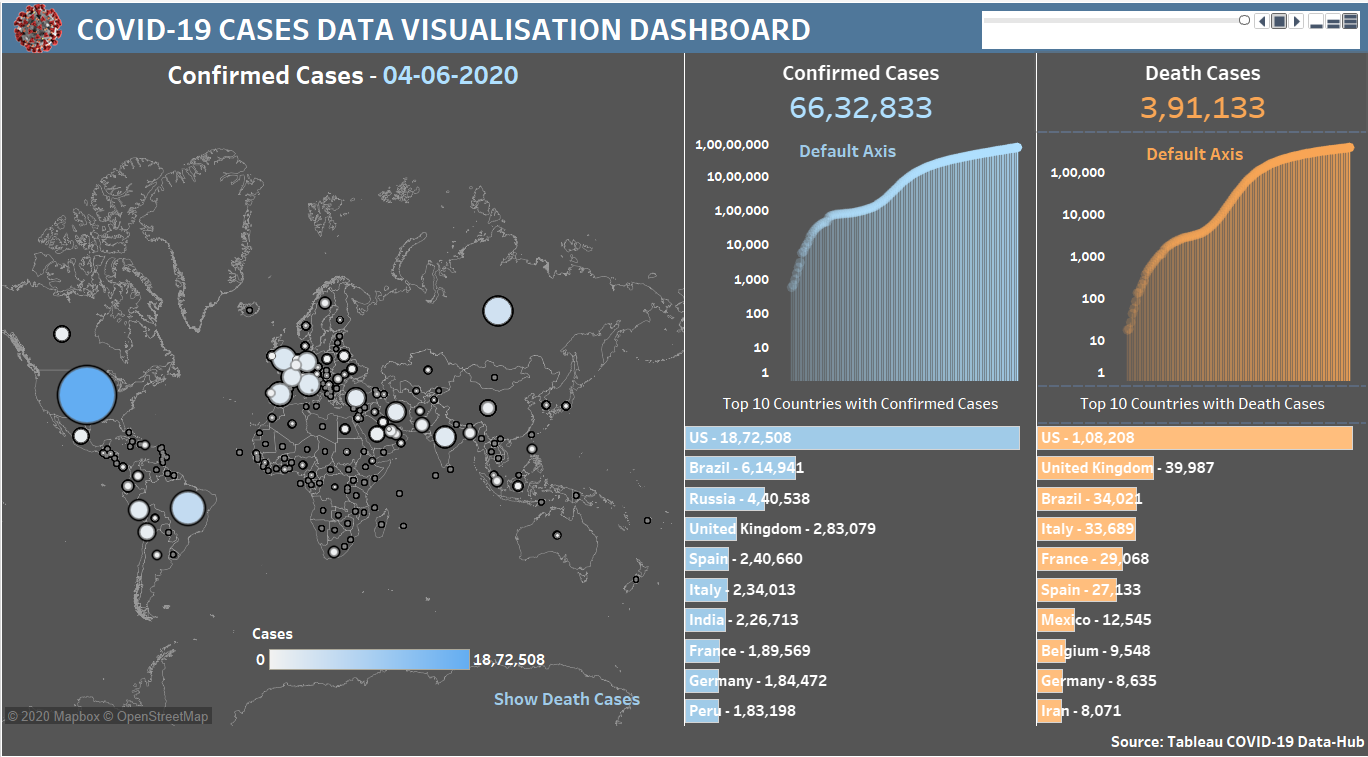

Layout of this report page (visuals, bound fields, positions):
{"tool":"tableau","page":{"name":"Dashboard 1","canvas":[1366,768],"ordinal":0},"visuals":[{"type":"worksheet","box":[0,0,1366,768]},{"type":"worksheet","param":"vert","box":[1,1,1366,768]},{"type":"worksheet","param":"horz","box":[1,1,1366,50]},{"type":"worksheet","param":"C:/Machine Learning Projects/Corona Virus Visualization using Tableau/2019-nCoV-","box":[1,1,71,50]},{"type":"worksheet","box":[72,1,1295,50]},{"type":"worksheet","title":"Map Confirmed","mark":"Automatic","box":[977,5,386,46]},{"type":"worksheet","param":"horz","box":[8,8,1350,752]},{"type":"worksheet","param":"horz","box":[8,8,1350,752]},{"type":"worksheet","param":"horz","box":[8,8,1350,752]},{"type":"worksheet","param":"horz","box":[8,8,1350,752]},{"type":"worksheet","box":[8,8,1350,752]},{"type":"worksheet","param":"horz","box":[1,51,1366,673]},{"type":"worksheet","title":"Map Confirmed","mark":"Automatic","box":[1,51,682,673]},{"type":"worksheet","param":"horz","box":[1,51,682,673]},{"type":"worksheet","title":"Map Deaths","mark":"Automatic","box":[1,51,682,673]},{"type":"worksheet","param":"vert","box":[683,51,352,673]},{"type":"worksheet","title":"Confirmed Details","mark":"Automatic","box":[683,51,352,78]},{"type":"worksheet","param":"vert","box":[1035,51,332,673]},{"type":"worksheet","title":"Death Details","mark":"Automatic","box":[1035,51,332,78]},{"type":"worksheet","title":"Confirmed Cases Line Chart","mark":"Automatic","rows":["Cases","Cases"],"cols":["Date"],"box":[683,129,352,254]},{"type":"worksheet","param":"horz","box":[683,129,352,254]},{"type":"worksheet","title":"Confirmed Cases Line (Log)","mark":"Automatic","rows":["Cases","Cases"],"cols":["Date"],"box":[683,129,352,254]},{"type":"worksheet","title":"Death Cases Line Chart","mark":"Automatic","rows":["Cases","Cases"],"cols":["Date"],"box":[1035,129,332,254]},{"type":"worksheet","param":"horz","box":[1035,129,332,254]},{"type":"worksheet","title":"Death Cases Line (Log)","mark":"Automatic","rows":["Cases","Cases"],"cols":["Date"],"box":[1035,129,332,254]},{"type":"worksheet","box":[786,134,123,29]},{"type":"worksheet","box":[1134,138,120,26]},{"type":"worksheet","box":[683,383,352,37]},{"type":"worksheet","box":[1035,383,332,37]},{"type":"worksheet","title":"Confirmed Bar (Race)","mark":"Automatic","cols":["Cases"],"box":[683,420,352,304]},{"type":"worksheet","title":"Deaths Bar (Race)","mark":"Automatic","cols":["Cases"],"box":[1035,420,332,304]},{"type":"worksheet","title":"Map Confirmed","mark":"Automatic","param":"[federated.08qpqkj0qb11ai1625jv50n43j6y].[sum:Cases:qk]","box":[251,621,298,58]},{"type":"worksheet","box":[455,680,222,34]},{"type":"worksheet","param":"horz","box":[1,724,1366,30]},{"type":"worksheet","box":[1,724,1366,30]}]}

Visuals, with their boxes in screenshot pixels (x1, y1, x2, y2), scaled from the page's 1366x768 canvas onto the 1368x757 screenshot:
worksheet: 0:0:1367:756
worksheet: 1:1:1367:756
worksheet: 1:1:1367:50
worksheet: 1:1:72:50
worksheet: 72:1:1367:50
"Map Confirmed" worksheet: 978:5:1365:50
worksheet: 8:8:1360:749
worksheet: 8:8:1360:749
worksheet: 8:8:1360:749
worksheet: 8:8:1360:749
worksheet: 8:8:1360:749
worksheet: 1:50:1367:714
"Map Confirmed" worksheet: 1:50:684:714
worksheet: 1:50:684:714
"Map Deaths" worksheet: 1:50:684:714
worksheet: 684:50:1037:714
"Confirmed Details" worksheet: 684:50:1037:127
worksheet: 1037:50:1367:714
"Death Details" worksheet: 1037:50:1367:127
"Confirmed Cases Line Chart" worksheet: 684:127:1037:378
worksheet: 684:127:1037:378
"Confirmed Cases Line (Log)" worksheet: 684:127:1037:378
"Death Cases Line Chart" worksheet: 1037:127:1367:378
worksheet: 1037:127:1367:378
"Death Cases Line (Log)" worksheet: 1037:127:1367:378
worksheet: 787:132:910:161
worksheet: 1136:136:1256:162
worksheet: 684:378:1037:414
worksheet: 1037:378:1367:414
"Confirmed Bar (Race)" worksheet: 684:414:1037:714
"Deaths Bar (Race)" worksheet: 1037:414:1367:714
"Map Confirmed" worksheet: 251:612:550:669
worksheet: 456:670:678:704
worksheet: 1:714:1367:743
worksheet: 1:714:1367:743
